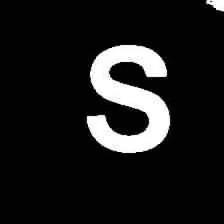LTR_S: (84, 37, 173, 156)
